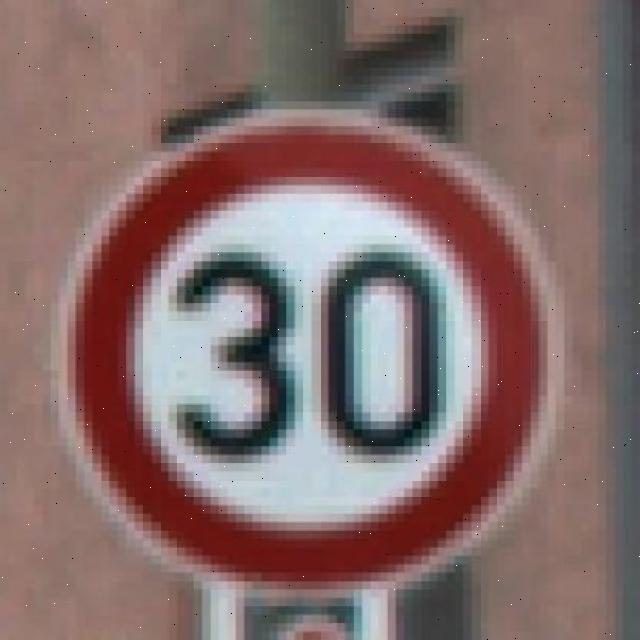speed limit 30: (63, 107, 560, 588)
